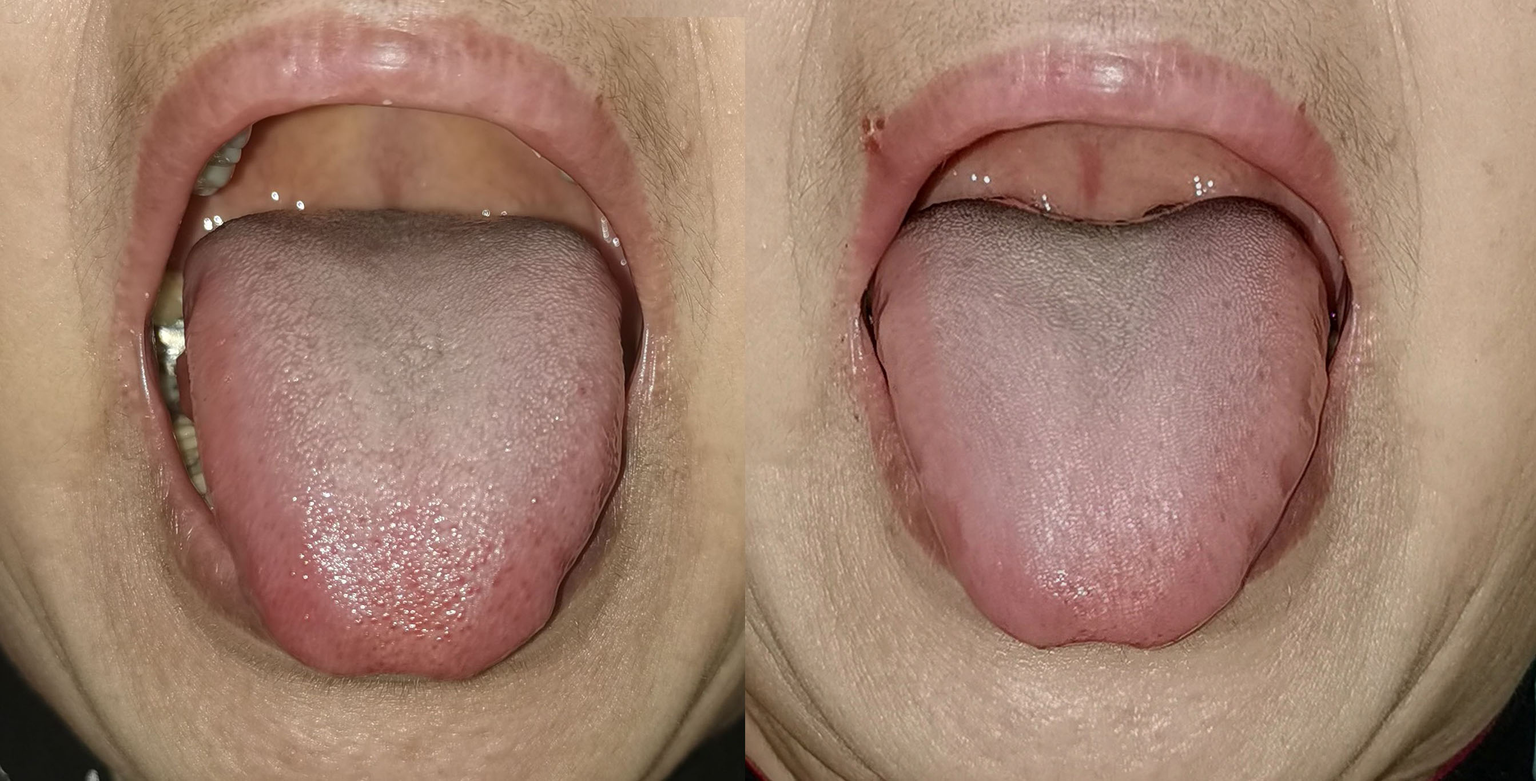baitaishe: (873, 197, 1331, 651), (184, 210, 625, 676)
hongdianshe: (478, 552, 487, 566), (455, 572, 463, 584)
hongshe: (183, 209, 624, 675)
